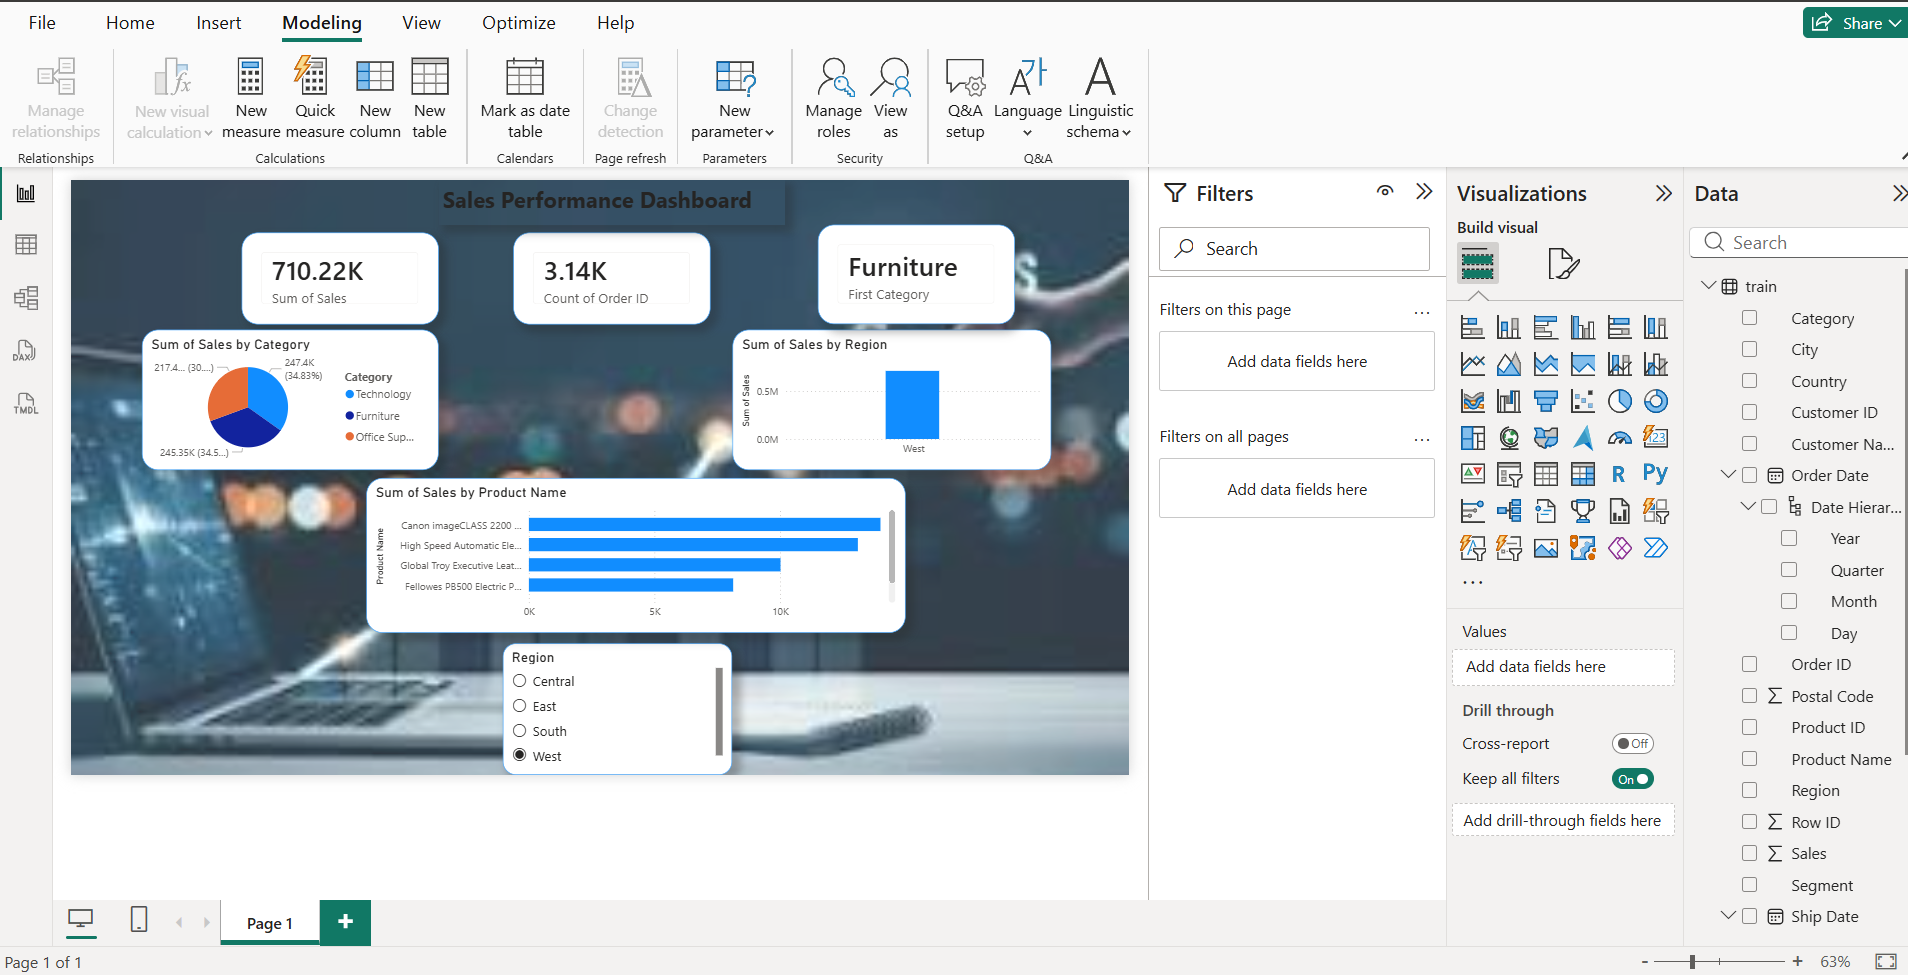

What the dashboard file says about the page in this screenshot:
{"tool":"powerbi","page":{"name":"Page 1","canvas":[1280,720],"ordinal":0},"visuals":[{"type":"cardVisual","fields":{"Data":["Sum(train.Sales)"]},"box":[206.3,63.5,238.1,111.1],"z":0},{"type":"clusteredColumnChart","fields":{"Y":["Sum(train.Sales)"],"Category":["train.Region"]},"box":[800,181,385.7,169.8],"z":1000},{"type":"pieChart","fields":{"Category":["train.Category"],"Y":["Sum(train.Sales)"]},"box":[85.7,181,358.7,169.8],"z":2000},{"type":"listSlicer","fields":{"Values":["train.Region"]},"box":[523,559.8,277.6,159.5],"z":3000},{"type":"cardVisual","fields":{"Data":["CountNonNull(train.Order ID)"]},"box":[534.9,63.5,238.1,111.1],"z":3001},{"type":"cardVisual","fields":{"Data":["Min(train.Category)"]},"box":[903.2,54,238.1,120.6],"z":3002},{"type":"clusteredBarChart","fields":{"Category":["train.Product Name"],"Y":["Sum(train.Sales)"]},"box":[357.1,360.3,652.4,187.3],"z":3003},{"type":"textbox","box":[444.4,0,419,54],"z":3004}]}

Visuals, with their boxes on the page's 1280x720 design canvas (x1, y1, x2, y2). These are canvas units, not pixel positions in the 1908x975 screenshot, which may show the page scaled, cropped or inside an application window:
cardVisual - Sum(train.Sales): pyautogui.locateOnScreen(206, 64, 444, 175)
clusteredColumnChart - Sum(train.Sales) x train.Region: pyautogui.locateOnScreen(800, 181, 1186, 351)
pieChart - train.Category x Sum(train.Sales): pyautogui.locateOnScreen(86, 181, 444, 351)
listSlicer - train.Region: pyautogui.locateOnScreen(523, 560, 801, 719)
cardVisual - CountNonNull(train.Order ID): pyautogui.locateOnScreen(535, 64, 773, 175)
cardVisual - Min(train.Category): pyautogui.locateOnScreen(903, 54, 1141, 175)
clusteredBarChart - train.Product Name x Sum(train.Sales): pyautogui.locateOnScreen(357, 360, 1010, 548)
textbox: pyautogui.locateOnScreen(444, 0, 863, 54)
